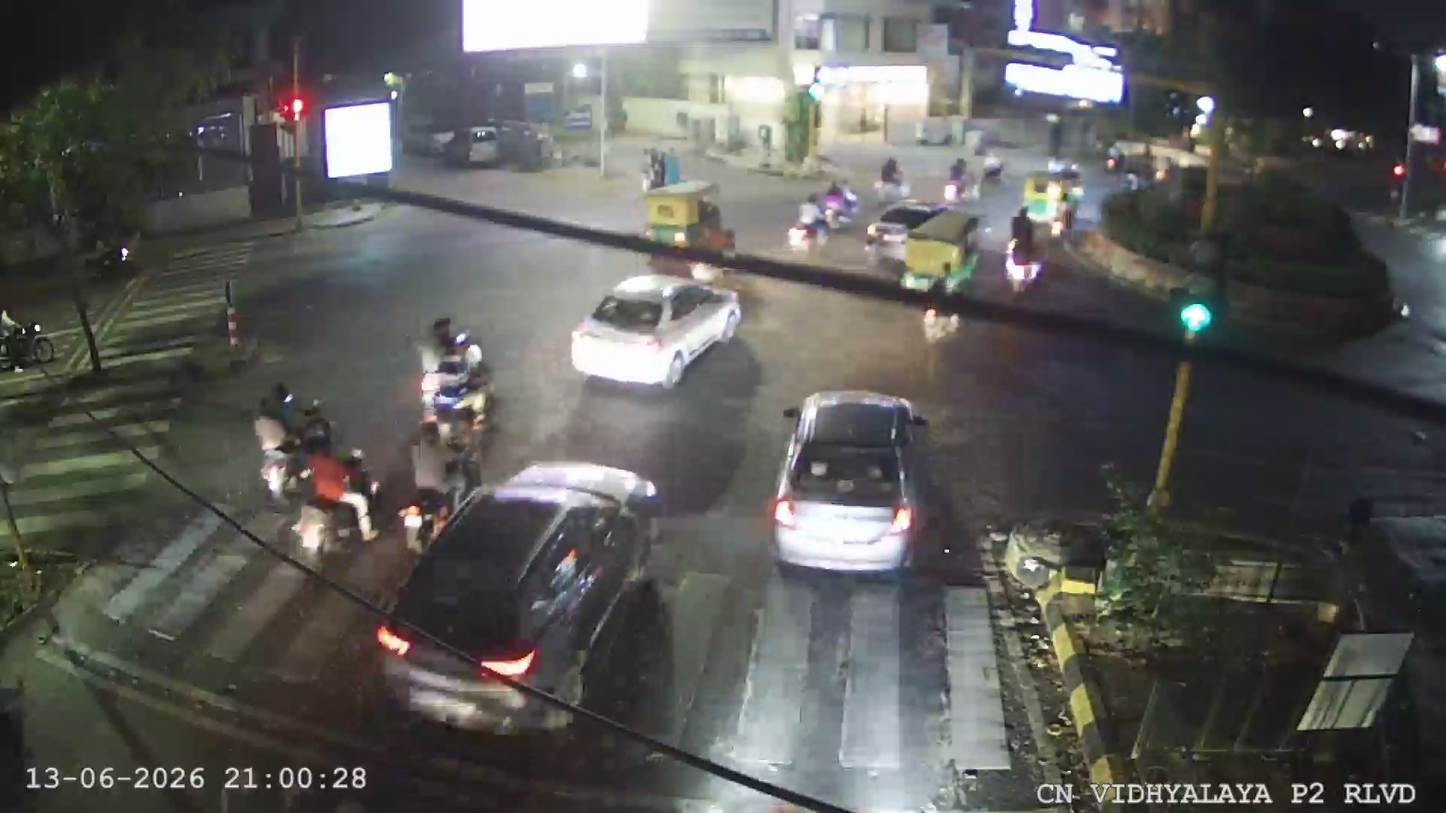auto_rickshaw: (896, 219, 980, 295), (640, 181, 728, 248), (1018, 170, 1085, 228)
car: (370, 457, 679, 774), (764, 377, 932, 573), (565, 266, 748, 389)
two_wheeler: (244, 379, 339, 507), (410, 308, 498, 441), (999, 213, 1050, 297)
